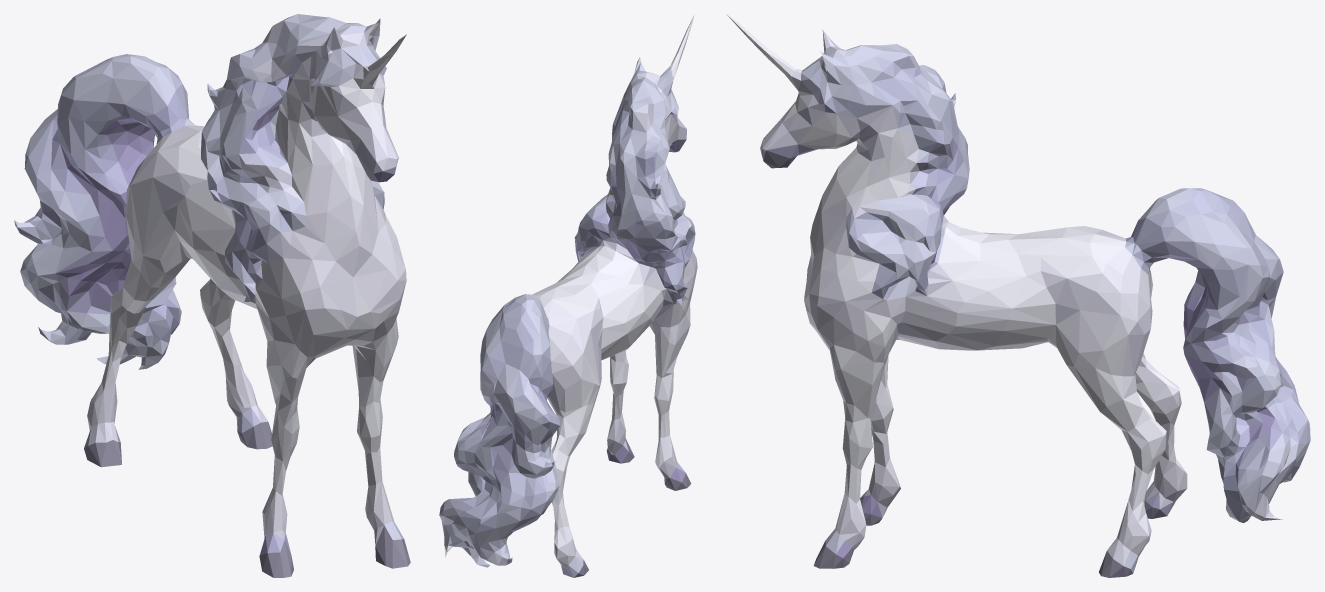
Rendered from low-poly-unicorn.glb.
3 renders of one model, left to right at view 1: azimuth 30°, elevation 25°; view 2: azimuth 150°, elevation 25°; view 3: azimuth 270°, elevation 25°, orthographic. The views are drawn at different scales.
Parts seen in each view (by area): view 1: low-poly-unicorn; view 2: low-poly-unicorn; view 3: low-poly-unicorn.
Boxes of the visible parts, x1,y1,x2,y2 form: low-poly-unicorn: (14,14,410,577); low-poly-unicorn: (439,15,697,577); low-poly-unicorn: (726,14,1310,577).
Bounding box in the file's own units: 0.7737 × 2.42 × 2.41.
1 material, 1 textured.
